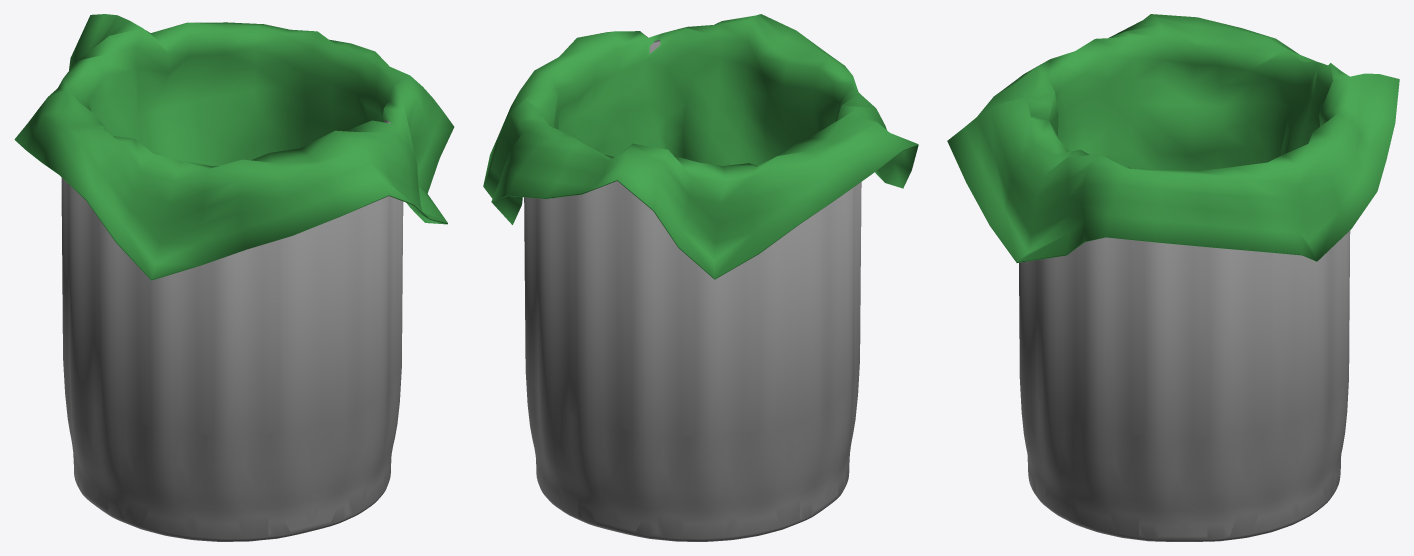
Rendered from green_can.fbx.
3 renders of one model, left to right at view 1: azimuth 30°, elevation 25°; view 2: azimuth 150°, elevation 25°; view 3: azimuth 270°, elevation 25°, orthographic.
Visible parts, largest first — view 1: Circle.001; view 2: Circle.001; view 3: Circle.001.
Part boxes in pixels (<box>): Circle.001: <box>14,14,454,541</box>; Circle.001: <box>483,14,918,541</box>; Circle.001: <box>947,14,1399,541</box>.
Size of the model in its own units: 272 by 278 by 288.
